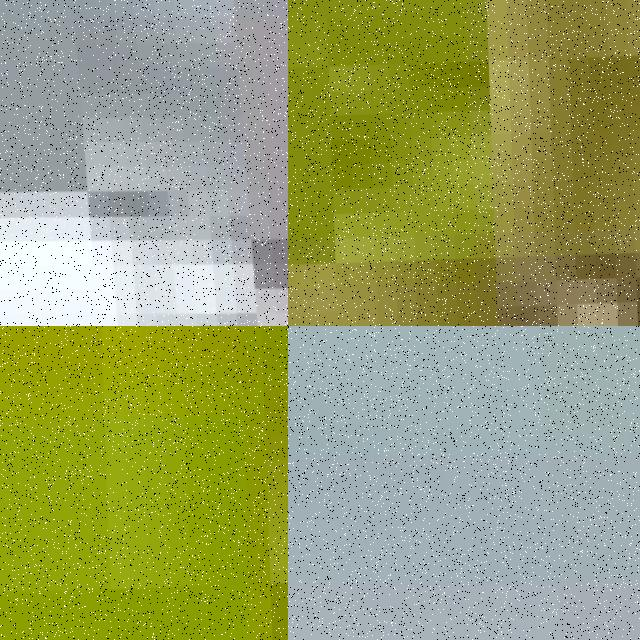drone: (288, 326, 640, 640), (0, 0, 288, 326)
